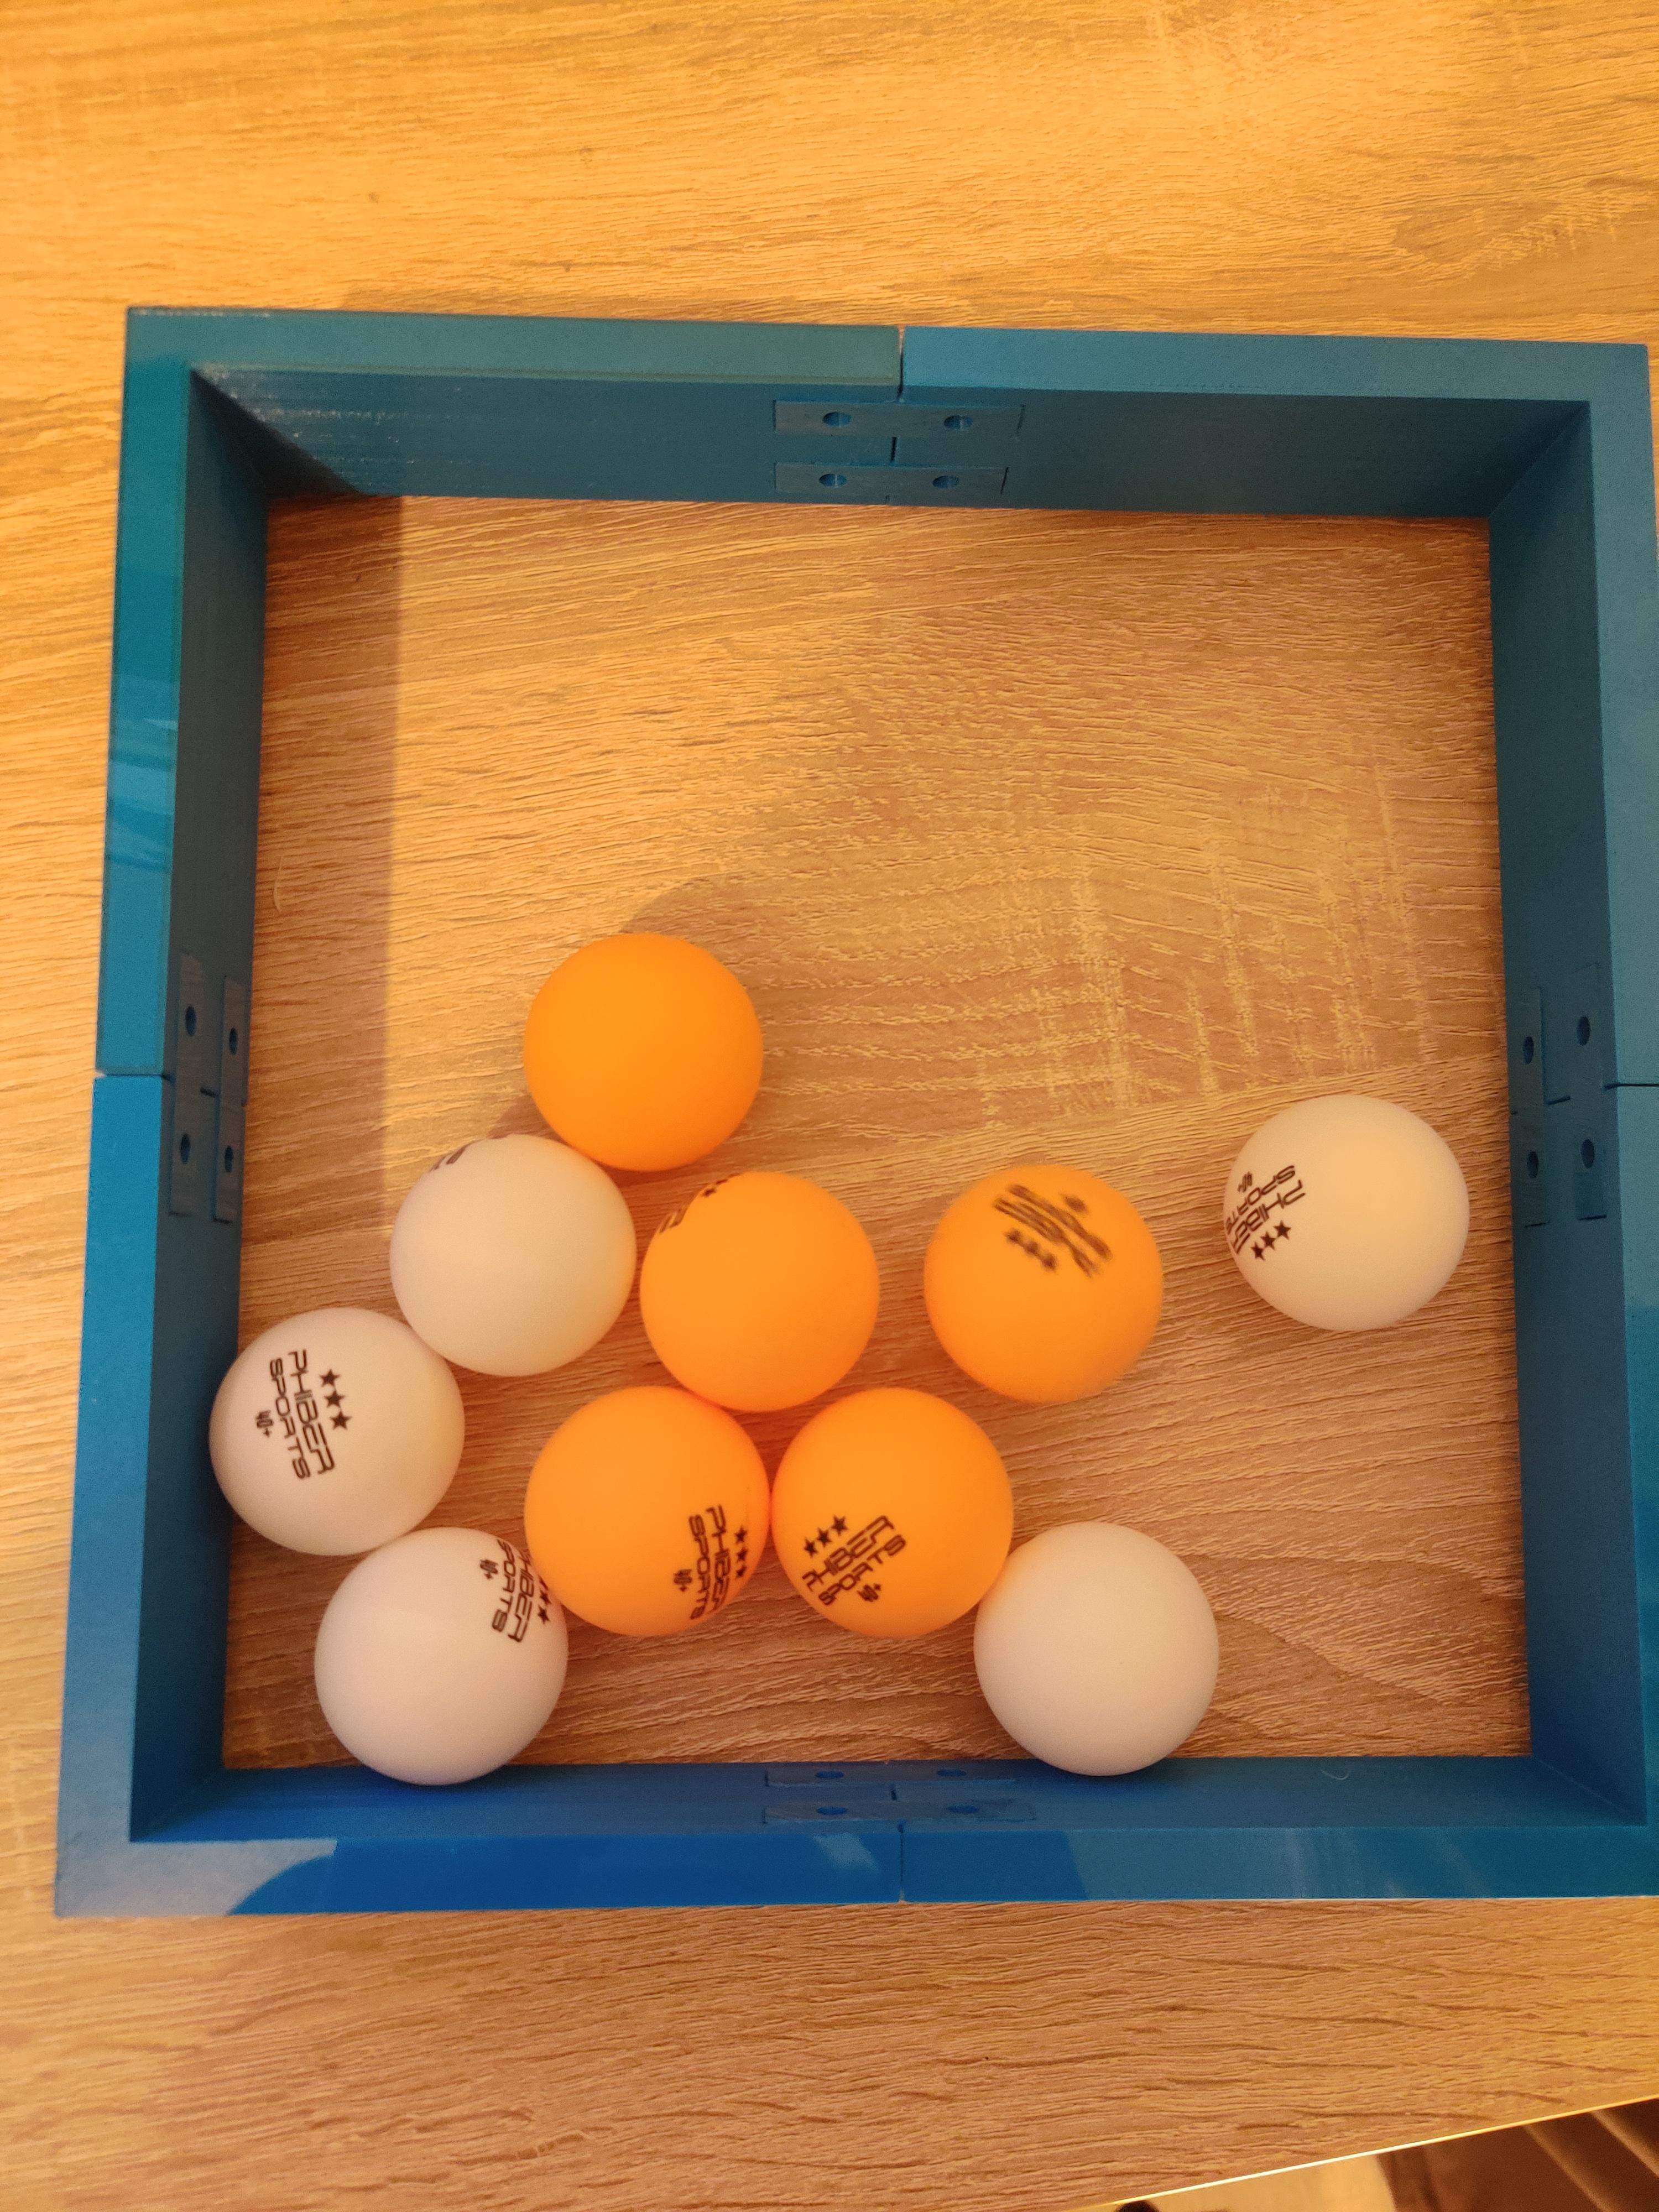orange: (526, 1379, 775, 1646), (918, 1153, 1171, 1414), (770, 1379, 1021, 1642), (638, 1165, 889, 1421), (521, 927, 772, 1176)
white: (314, 1519, 572, 1792), (978, 1515, 1225, 1785), (195, 1299, 457, 1554), (383, 1129, 641, 1381), (1220, 1087, 1474, 1339)
